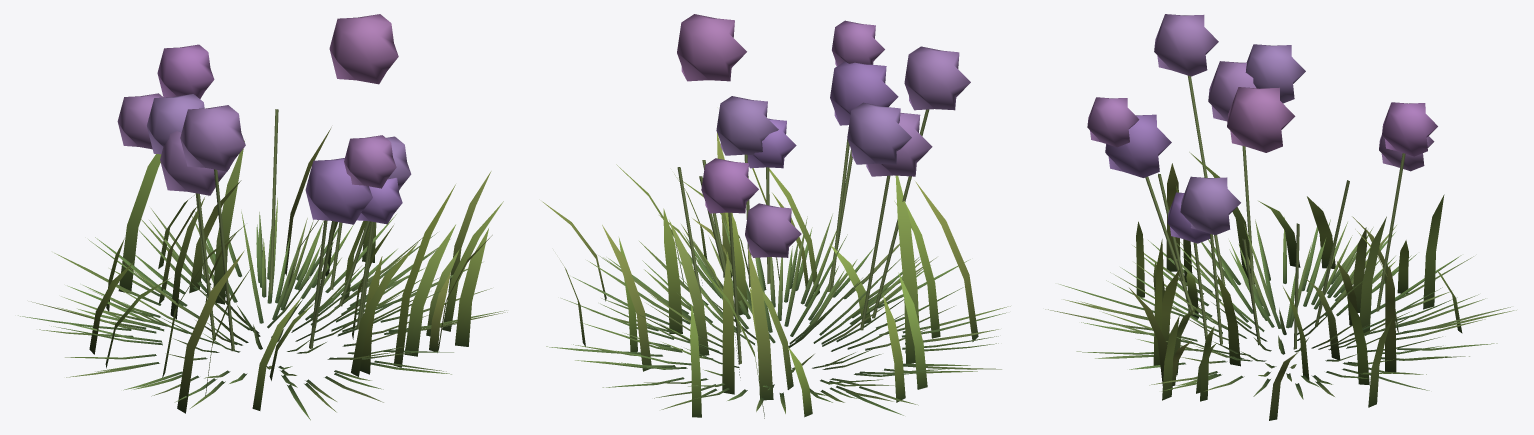
The model's file is eco_flower_violet_cushion_LOD1.glb.
3 views of the same model, side by side, from view 1: azimuth 30°, elevation 25°; view 2: azimuth 150°, elevation 25°; view 3: azimuth 270°, elevation 25° (orthographic). The views are drawn at different scales.
Visible parts, largest first — view 1: eco_flower_violet_cushion_LOD1; view 2: eco_flower_violet_cushion_LOD1; view 3: eco_flower_violet_cushion_LOD1.
Boxes of the visible parts, bbox=[...] form: eco_flower_violet_cushion_LOD1: bbox=[18, 14, 507, 420]; eco_flower_violet_cushion_LOD1: bbox=[542, 14, 1010, 418]; eco_flower_violet_cushion_LOD1: bbox=[1045, 14, 1516, 420].
Size of the model in its own units: 0.4213 by 0.2707 by 0.4096.
